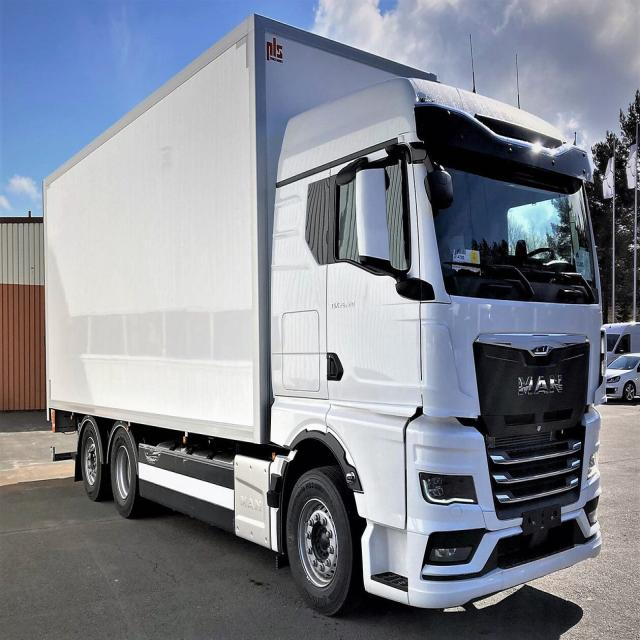truck: (44, 16, 604, 613)
